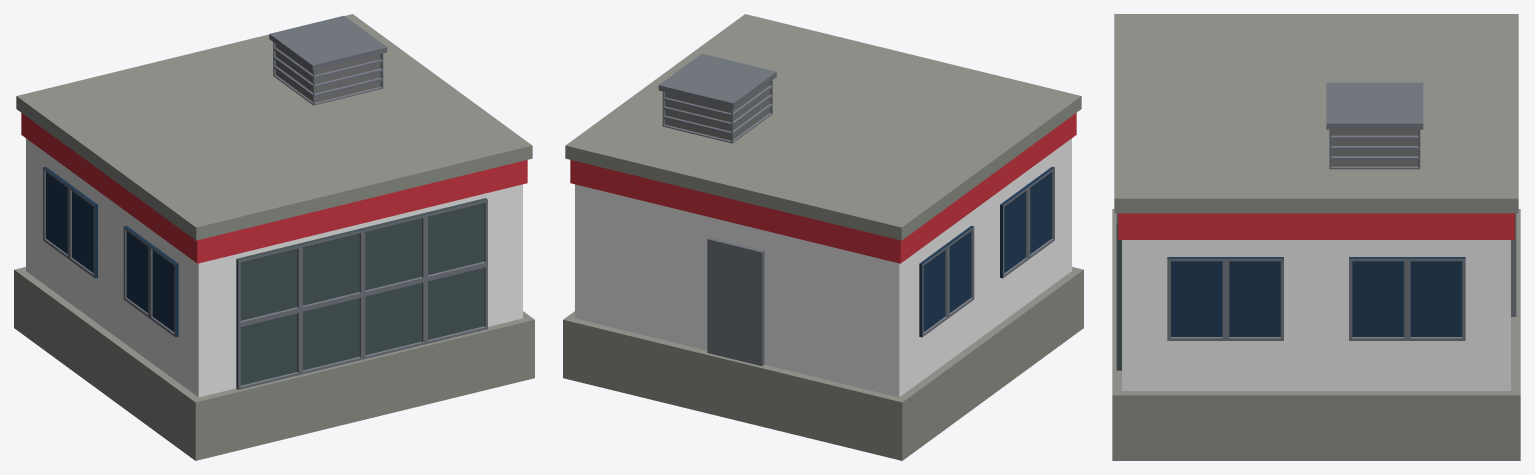
File: mashup-office-mid-prebuilt_close.fbx
The picture shows the model from 3 angles, left to right: view 1: azimuth 30°, elevation 25°; view 2: azimuth 150°, elevation 25°; view 3: azimuth 270°, elevation 25°; orthographic projection. The views are drawn at different scales.
Visible parts, largest first — view 1: a1019.Office.001; view 2: a1019.Office.001; view 3: a1019.Office.001.
Boxes of the visible parts, x1,y1,x2,y2 form: a1019.Office.001: [14, 14, 534, 460]; a1019.Office.001: [563, 14, 1083, 460]; a1019.Office.001: [1112, 14, 1520, 460].
Bounding box in the file's own units: 6.8 × 5.25 × 6.3.
